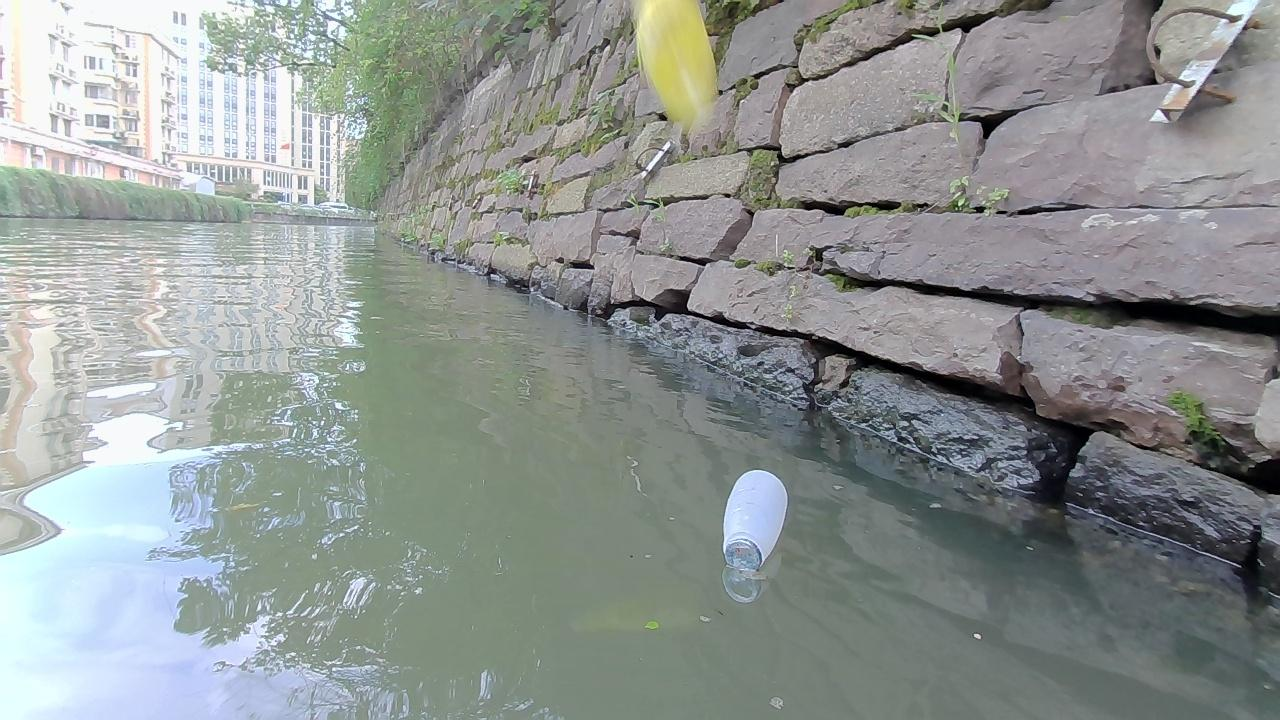bottle: (721, 468, 787, 572)
